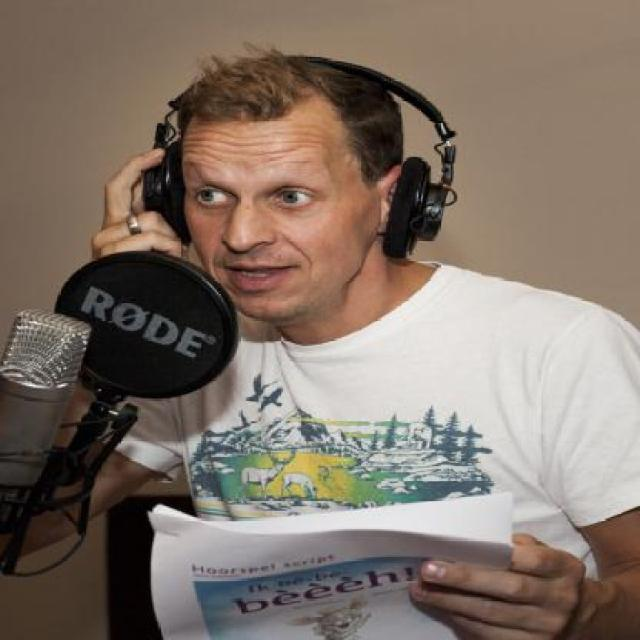earphone: (137, 55, 568, 269)
